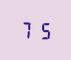five: (35, 20, 50, 40)
seven: (19, 19, 34, 39)
